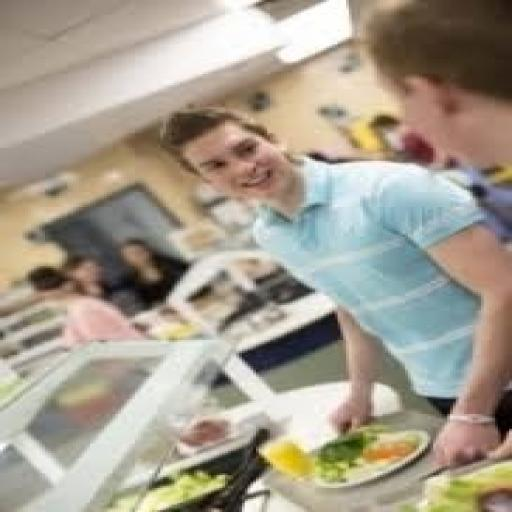eating: (155, 103, 509, 466)
